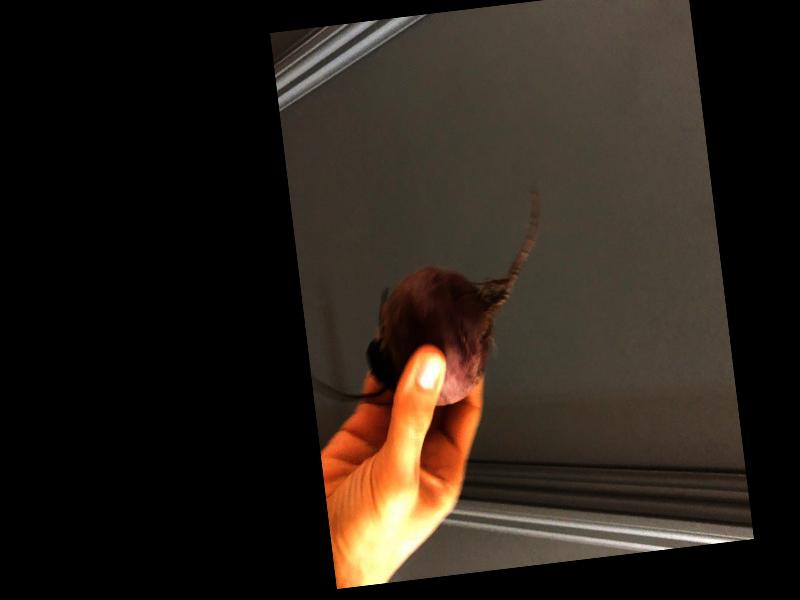Beet: (291, 183, 561, 420)
